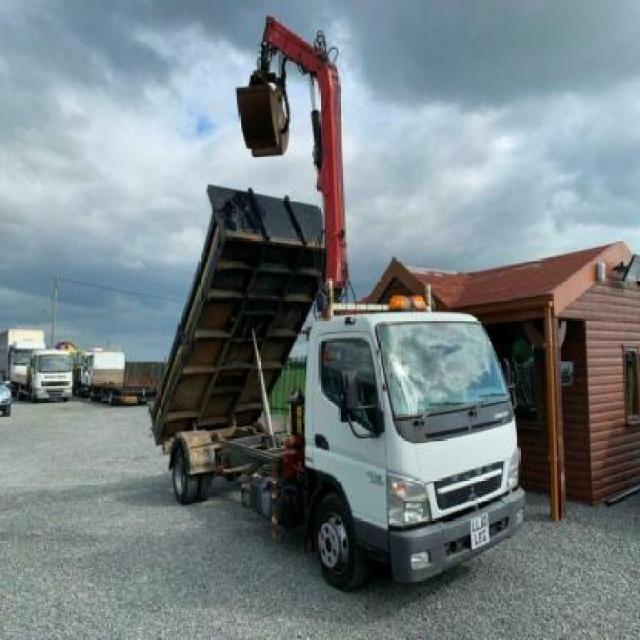truck: (150, 183, 524, 591)
